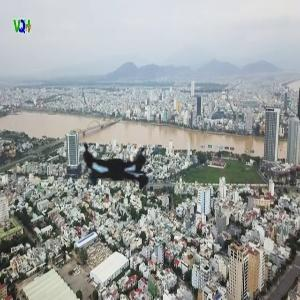drone: (17, 67, 223, 273)
